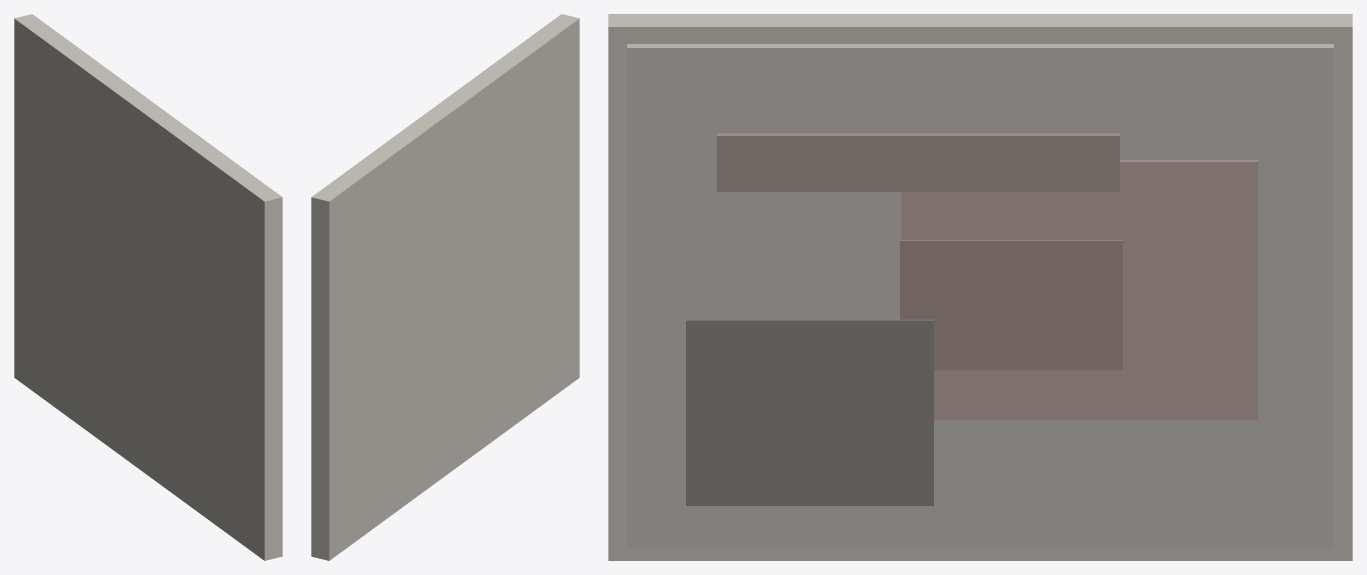
Rendered from art_w3.glb.
3 views of the same model, side by side, from view 1: azimuth 30°, elevation 25°; view 2: azimuth 150°, elevation 25°; view 3: azimuth 270°, elevation 25° (orthographic). The views are drawn at different scales.
Parts seen in each view (by area): view 1: root; view 2: root; view 3: root.
Boxes of the visible parts, x1,y1,x2,y2 form: root: (14, 14, 282, 560); root: (311, 14, 579, 560); root: (608, 14, 1352, 560).
Bounding box in the file's own units: 0.0482 × 0.5791 × 0.7315.
